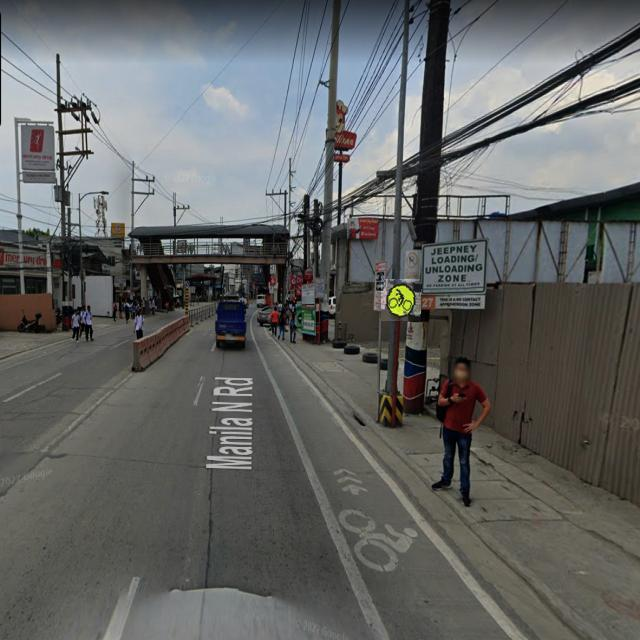bike lane: (381, 279, 421, 321)
